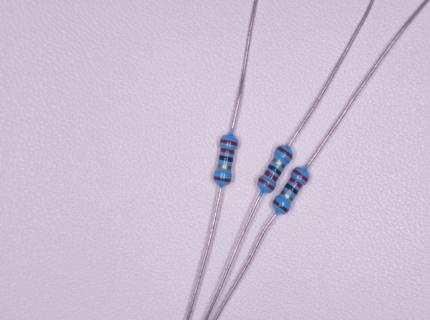Black band: (284, 182, 299, 195), (267, 164, 282, 176), (219, 155, 234, 162)
Brown band: (272, 199, 289, 214), (276, 146, 293, 159), (214, 176, 232, 183)
Gold band: (271, 157, 286, 169), (280, 190, 294, 201), (217, 163, 232, 170)
Red band: (292, 168, 309, 183), (257, 177, 275, 191), (263, 169, 278, 182), (289, 176, 303, 189), (220, 139, 238, 146), (220, 147, 235, 155)
